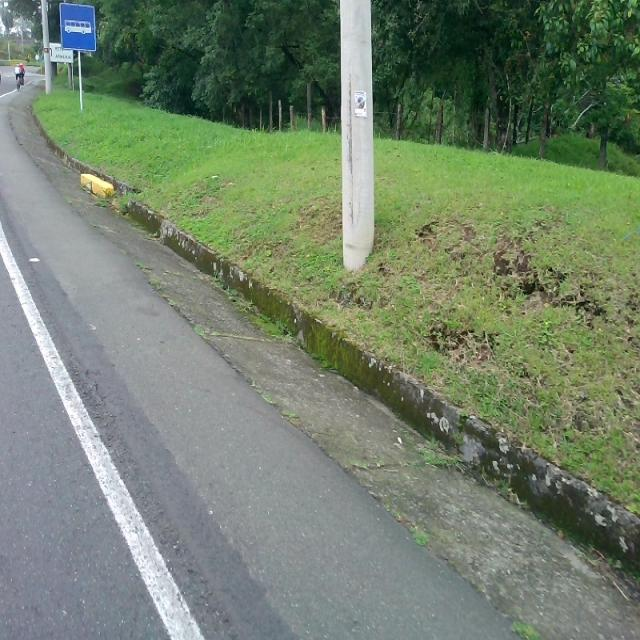DITCH: (8, 79, 638, 636), (1, 97, 638, 638)
